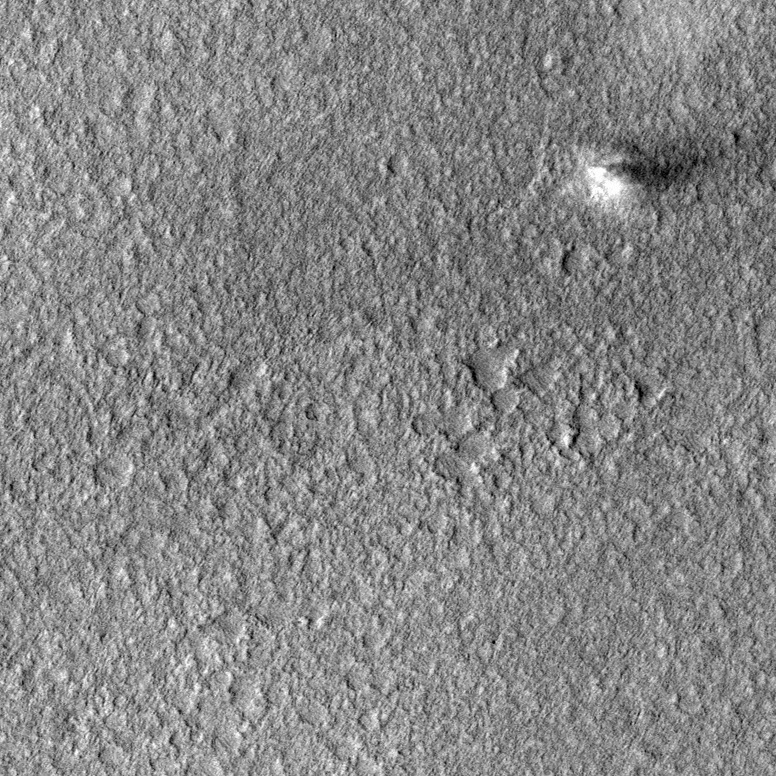dust_devil: (584, 149, 728, 204)
